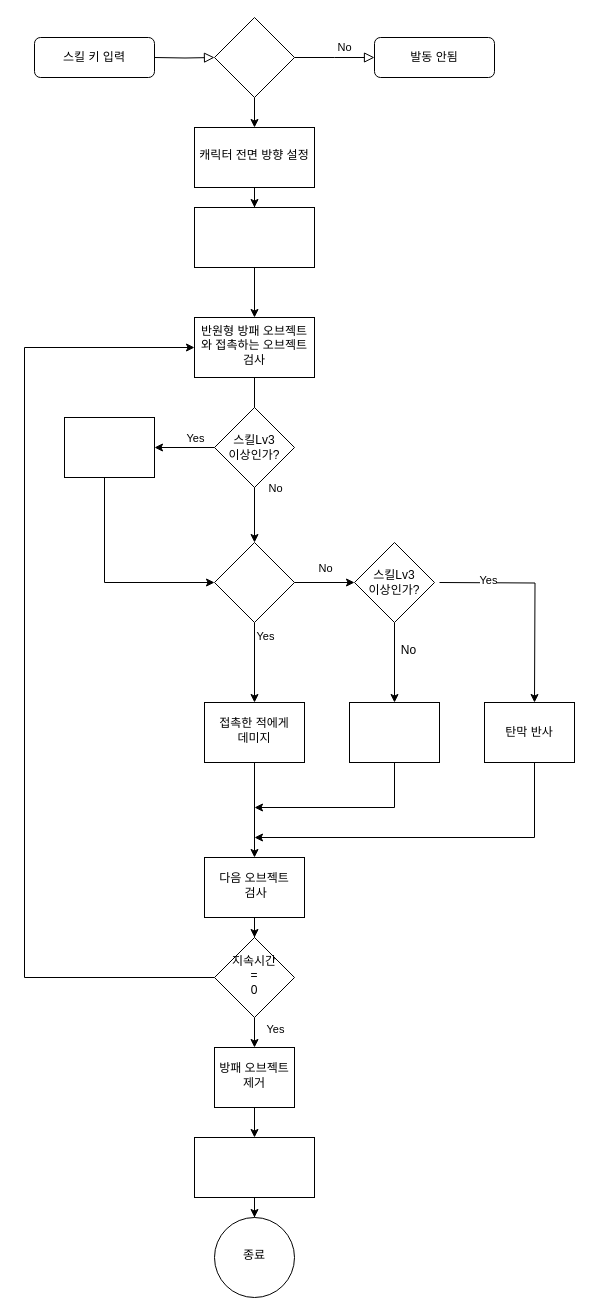
Image size: 592x1315. Some labels were removed from this diagram. Here are the shapes that lost their labels. From the top down, the centre of each, then its label:
At [254,57]: "스킬 게이지 = 100".
At [254,237]: "반원형 방패 오브젝트 생성".
At [109,447]: "캐릭터에게 실드 부여".
At [254,582]: "오브젝트가 적인가?".
At [394,732]: "탄막제거".
At [254,1167]: "게이지 초기화".
